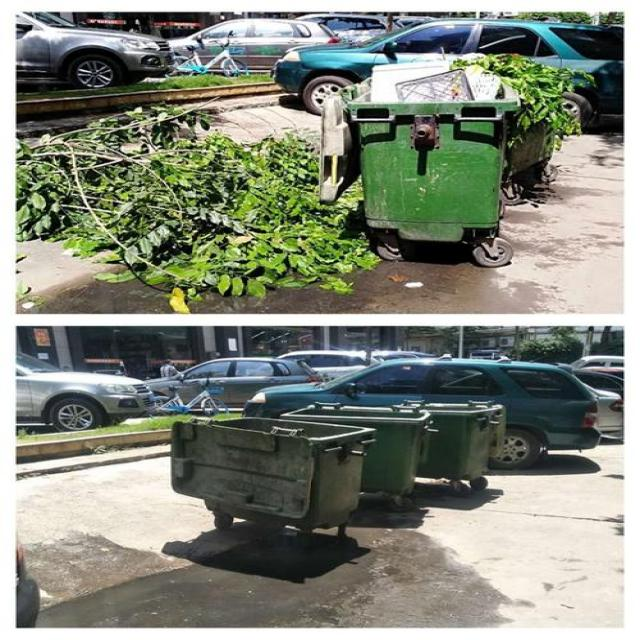garbage_bin: (168, 417, 374, 528), (282, 404, 430, 491), (418, 400, 507, 479)
overflow: (347, 59, 518, 240)
